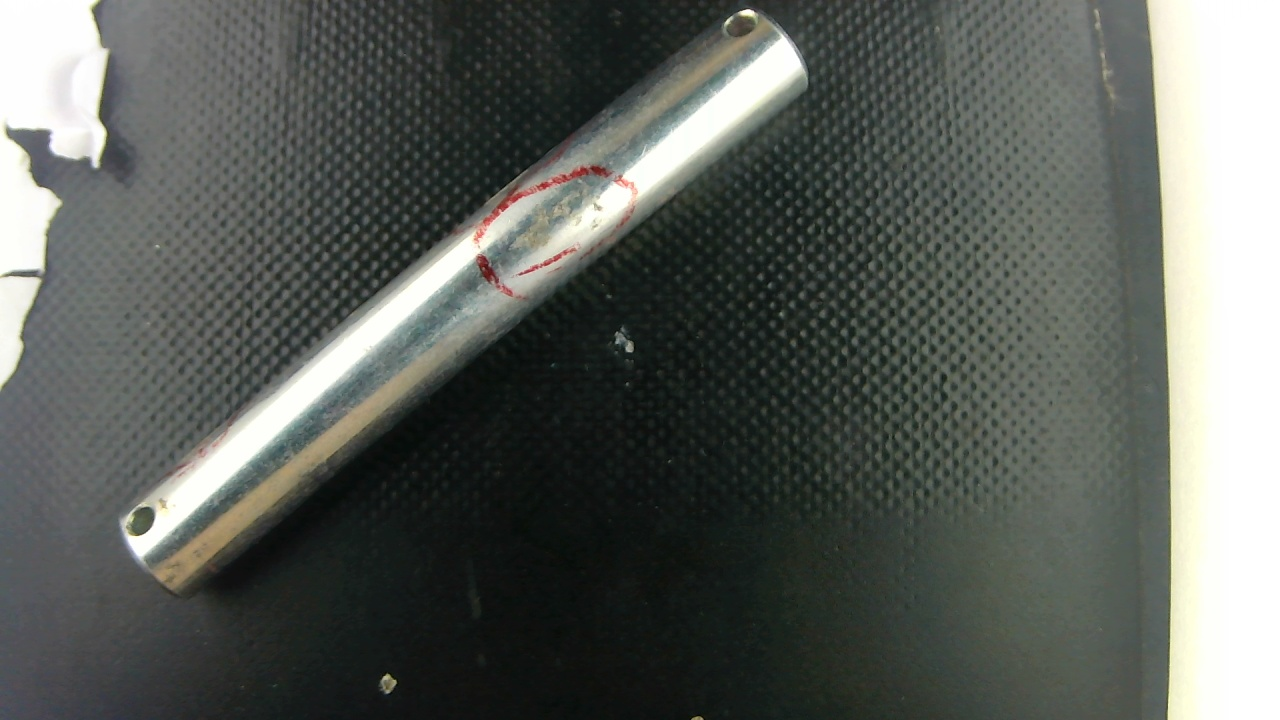whiterust_pin: (505, 171, 616, 268)
